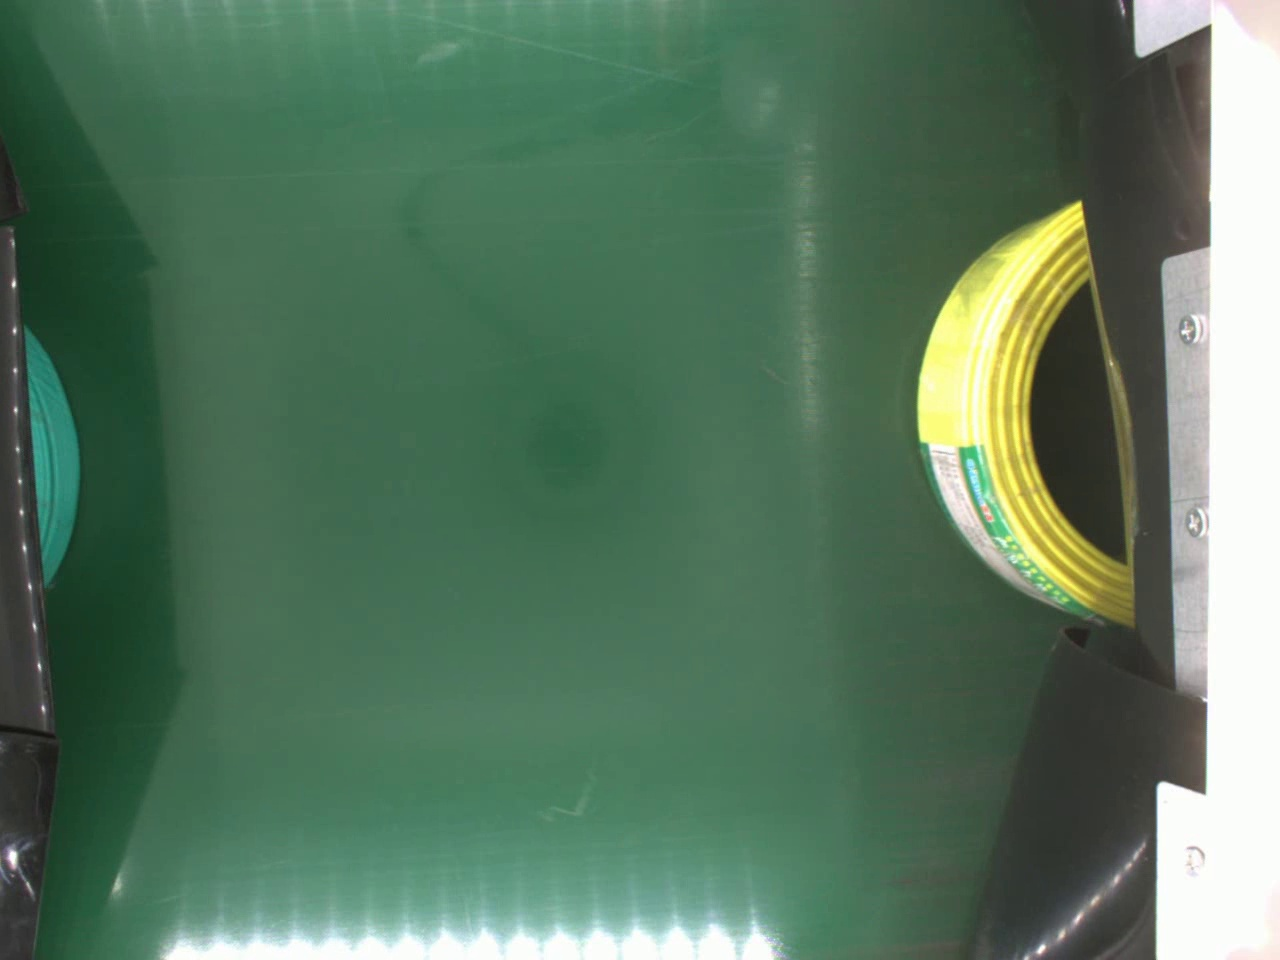yellow: (913, 197, 1136, 635)
